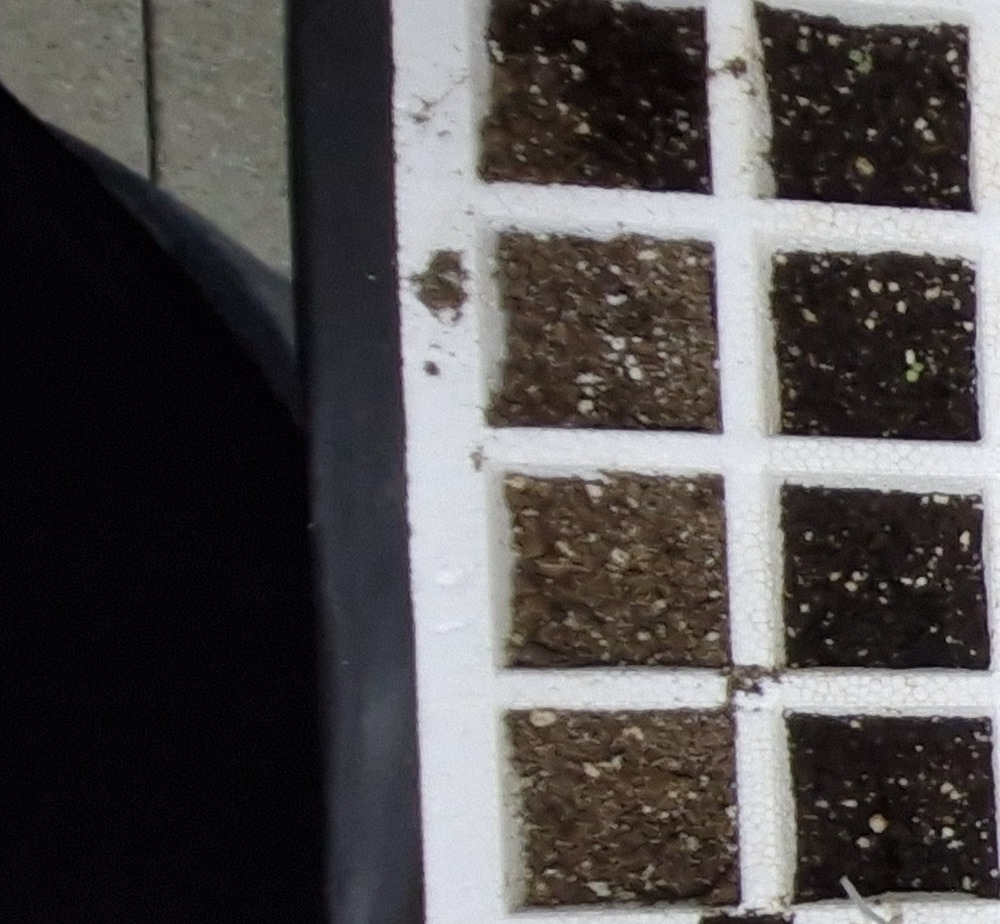Folha: (599, 814, 610, 828)
Germinacao: (597, 813, 609, 829)
